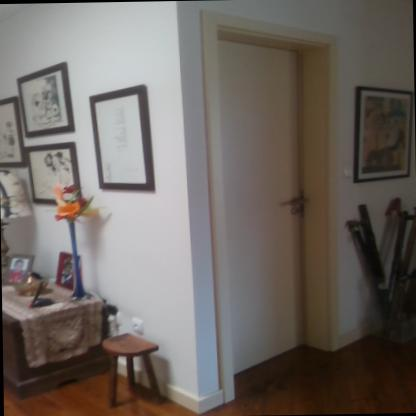closed: (190, 18, 357, 391)
